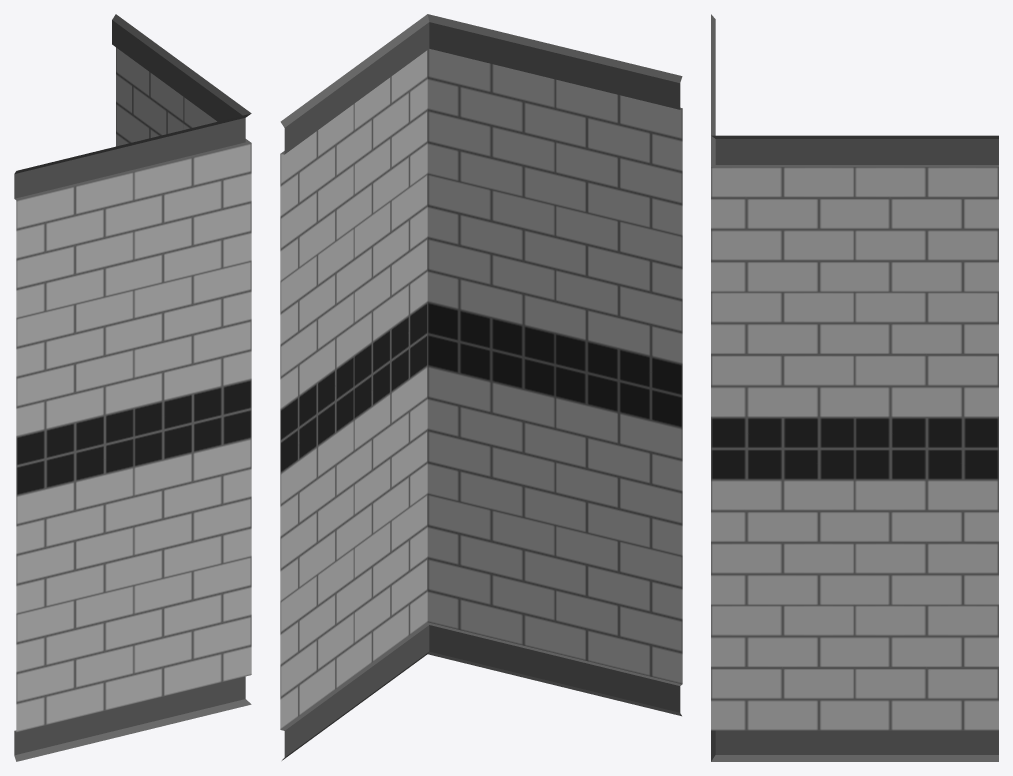
File: SW_ENV_StationWall_A_OuterCrnr.fbx
3 renders of one model, left to right at view 1: azimuth 30°, elevation 25°; view 2: azimuth 150°, elevation 25°; view 3: azimuth 270°, elevation 25°, orthographic. The views are drawn at different scales.
Visible parts, largest first — view 1: SW_ENV_StationWall_A_OuterCrnr; view 2: SW_ENV_StationWall_A_OuterCrnr; view 3: SW_ENV_StationWall_A_OuterCrnr.
Boxes of the visible parts, box(x1,y1,x2,y2) form: SW_ENV_StationWall_A_OuterCrnr: box(14, 14, 251, 761); SW_ENV_StationWall_A_OuterCrnr: box(280, 14, 682, 760); SW_ENV_StationWall_A_OuterCrnr: box(711, 14, 998, 761).
Size of the model in its own units: 125 by 300 by 125.
